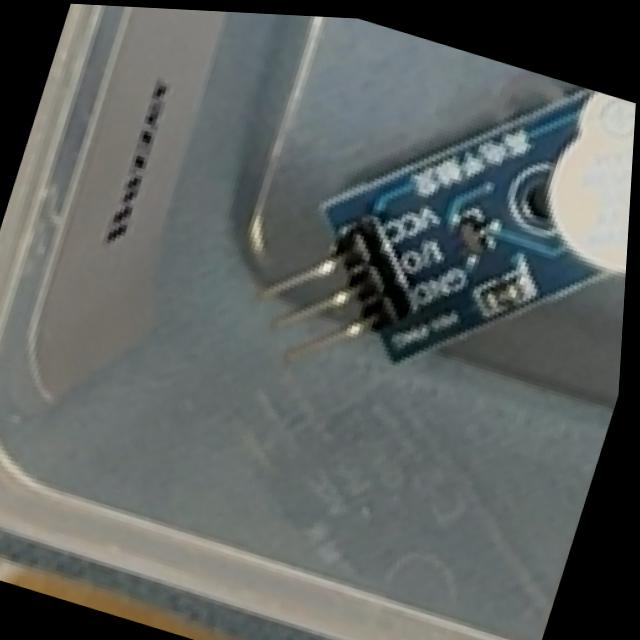Buzzer: (233, 13, 640, 459)
